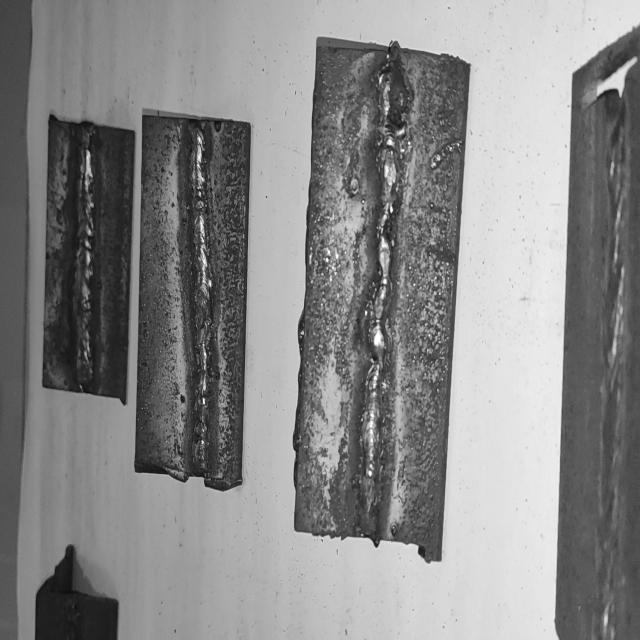Bad Weld: (358, 51, 407, 532)
Defect: (374, 50, 416, 162)
Good Weld: (603, 100, 625, 640), (190, 134, 214, 469), (75, 128, 96, 384)
